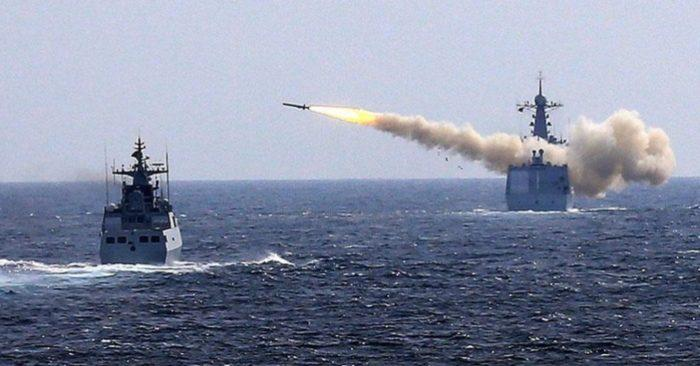MIL_Ship: (98, 125, 186, 266), (502, 68, 579, 213)
